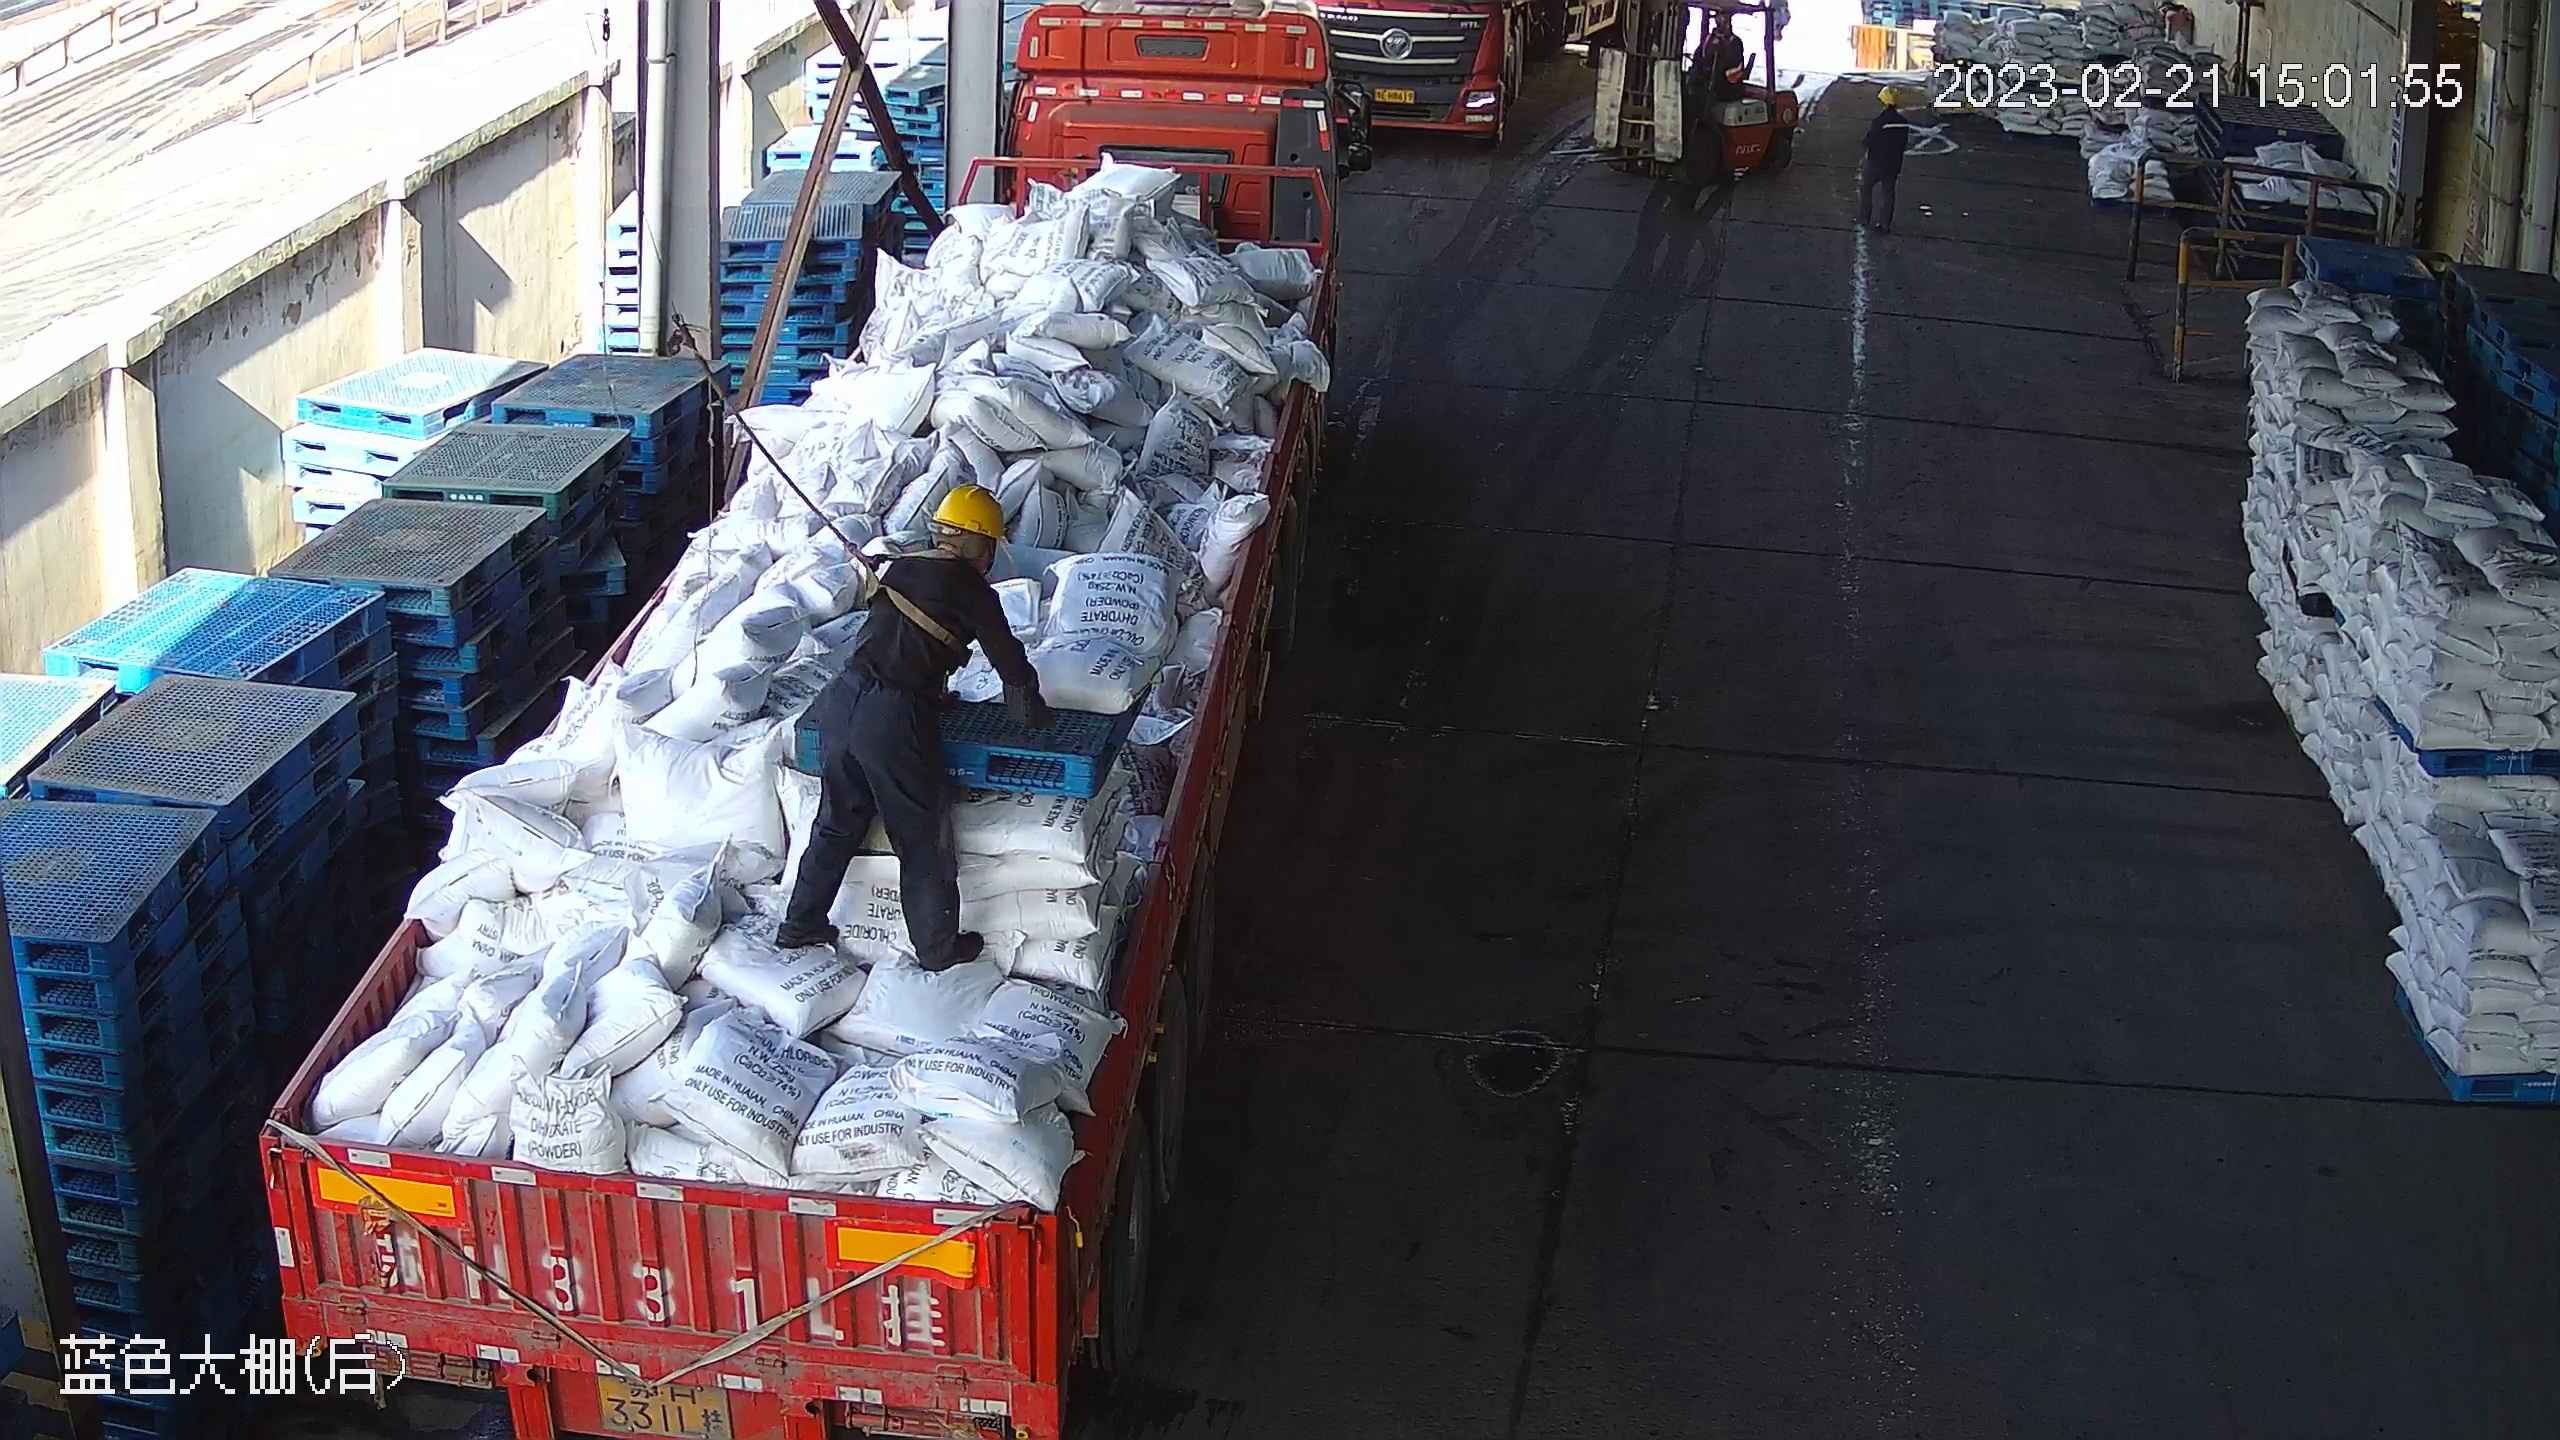belt: (848, 545, 979, 656)
head: (859, 477, 1011, 634), (1863, 84, 1913, 137)
helmet: (936, 475, 1009, 553), (1879, 84, 1900, 105)
people: (786, 467, 1009, 964), (1862, 83, 1914, 220)
truck: (225, 1, 1355, 1440), (1323, 1, 1540, 158)
